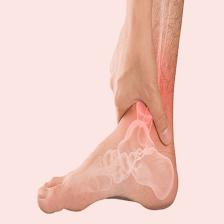stress-fracture: (112, 0, 174, 183)
